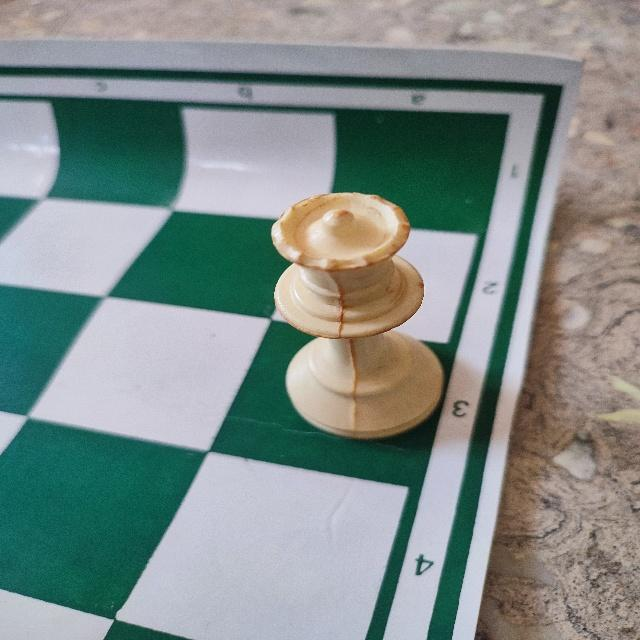Queen: (268, 188, 449, 441)
